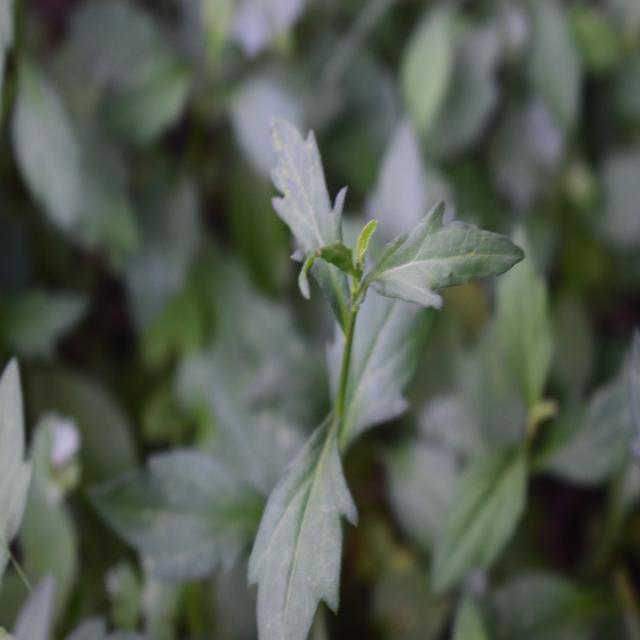Indian aster: (221, 126, 498, 618)
